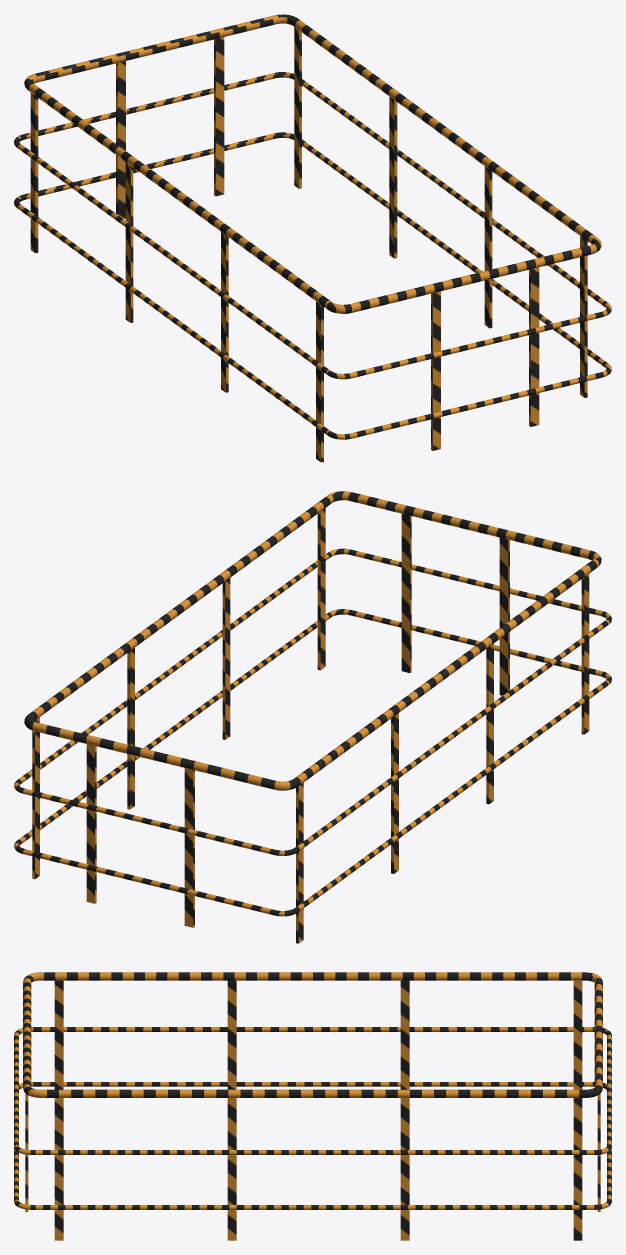
Rendered from Barricade.fbx.
The picture shows the model from 3 angles, top to bottom: view 1: azimuth 30°, elevation 25°; view 2: azimuth 150°, elevation 25°; view 3: azimuth 270°, elevation 25°; orthographic projection. The views are drawn at different scales.
Visible parts, largest first — view 1: Plane.017, Plane.022; view 2: Plane.017, Plane.022; view 3: Plane.017, Plane.022.
Part boxes in pixels (x1,y1,x2,y2): Plane.017: (14, 14, 607, 462); Plane.022: (327, 237, 611, 450); Plane.017: (14, 494, 609, 943); Plane.022: (329, 491, 611, 695); Plane.017: (30, 972, 611, 1240); Plane.022: (14, 972, 41, 1211).
Bounding box in the file's own units: 194 × 109 × 392.
Materials: 8 (8 with a texture image).
